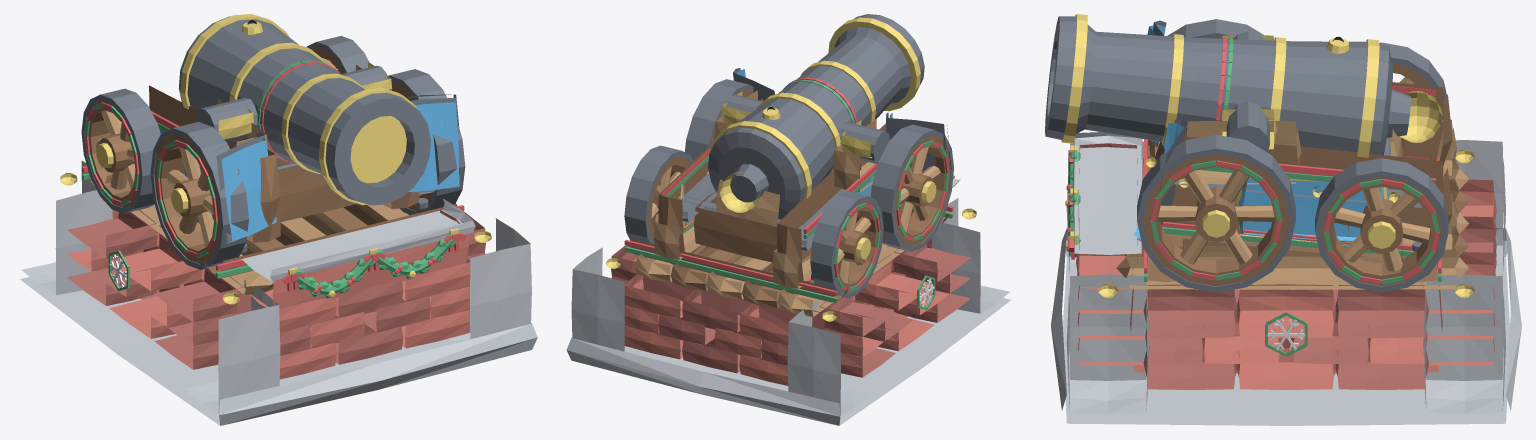
Rendered from canon_navidad.glb.
3 renders of one model, left to right at view 1: azimuth 30°, elevation 25°; view 2: azimuth 150°, elevation 25°; view 3: azimuth 270°, elevation 25°, orthographic. The views are drawn at different scales.
Parts seen in each view (by area): view 1: CanonNavidad; view 2: CanonNavidad; view 3: CanonNavidad.
Boxes of the visible parts, box(x1,y1,x2,y2) form: CanonNavidad: box(20, 14, 537, 425); CanonNavidad: box(566, 14, 1010, 425); CanonNavidad: box(1045, 14, 1521, 425).
Bounding box in the file's own units: 1.33 × 1.12 × 1.5.
